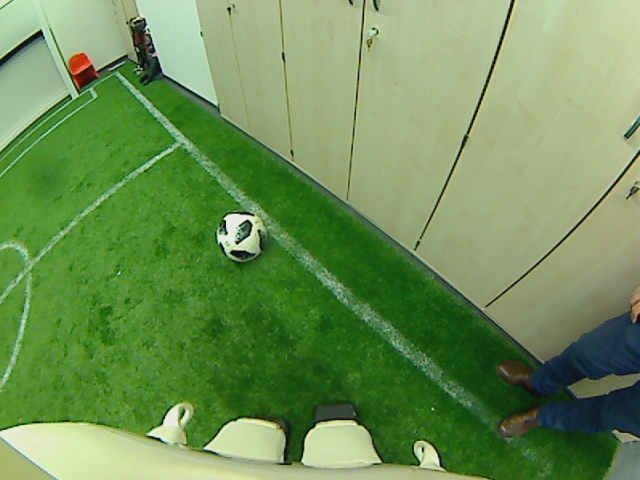ball: (214, 211, 268, 262)
